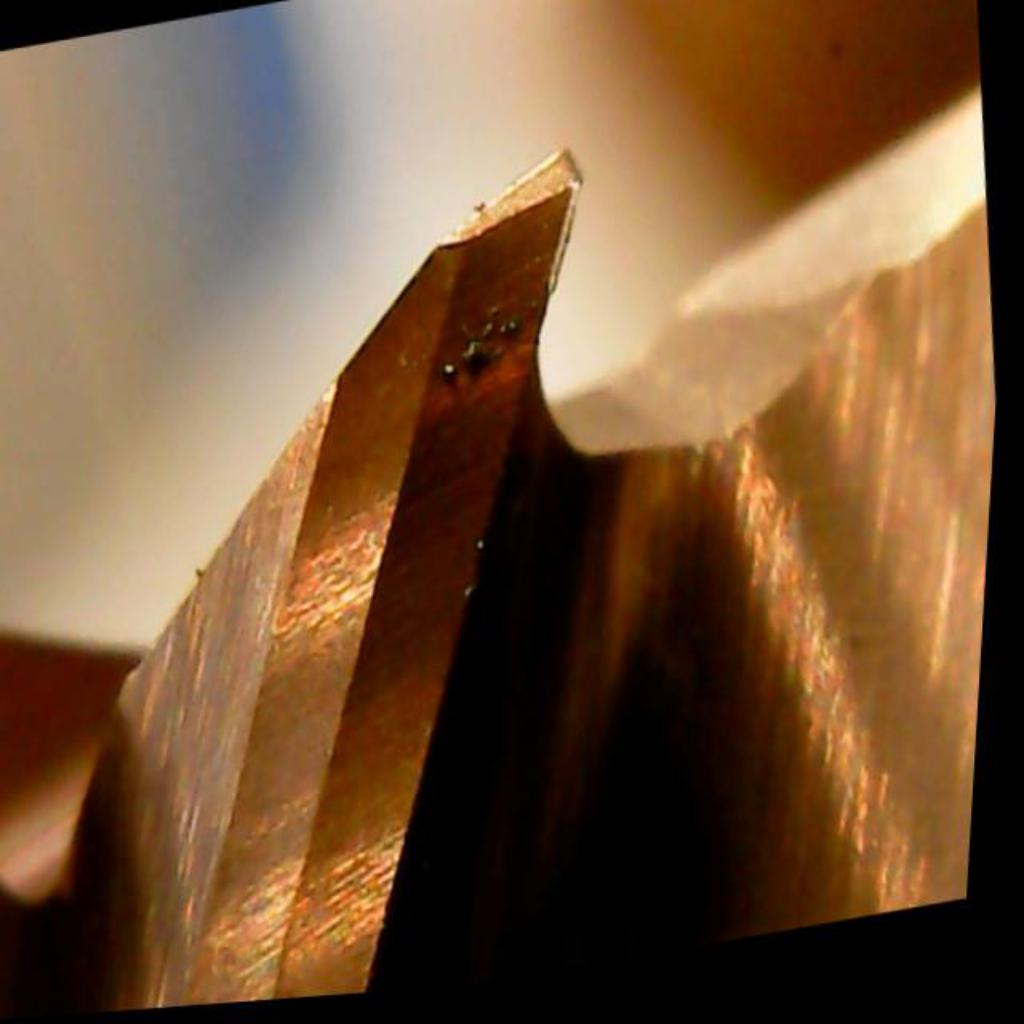Tool-wear-class-0: (302, 150, 625, 566)
